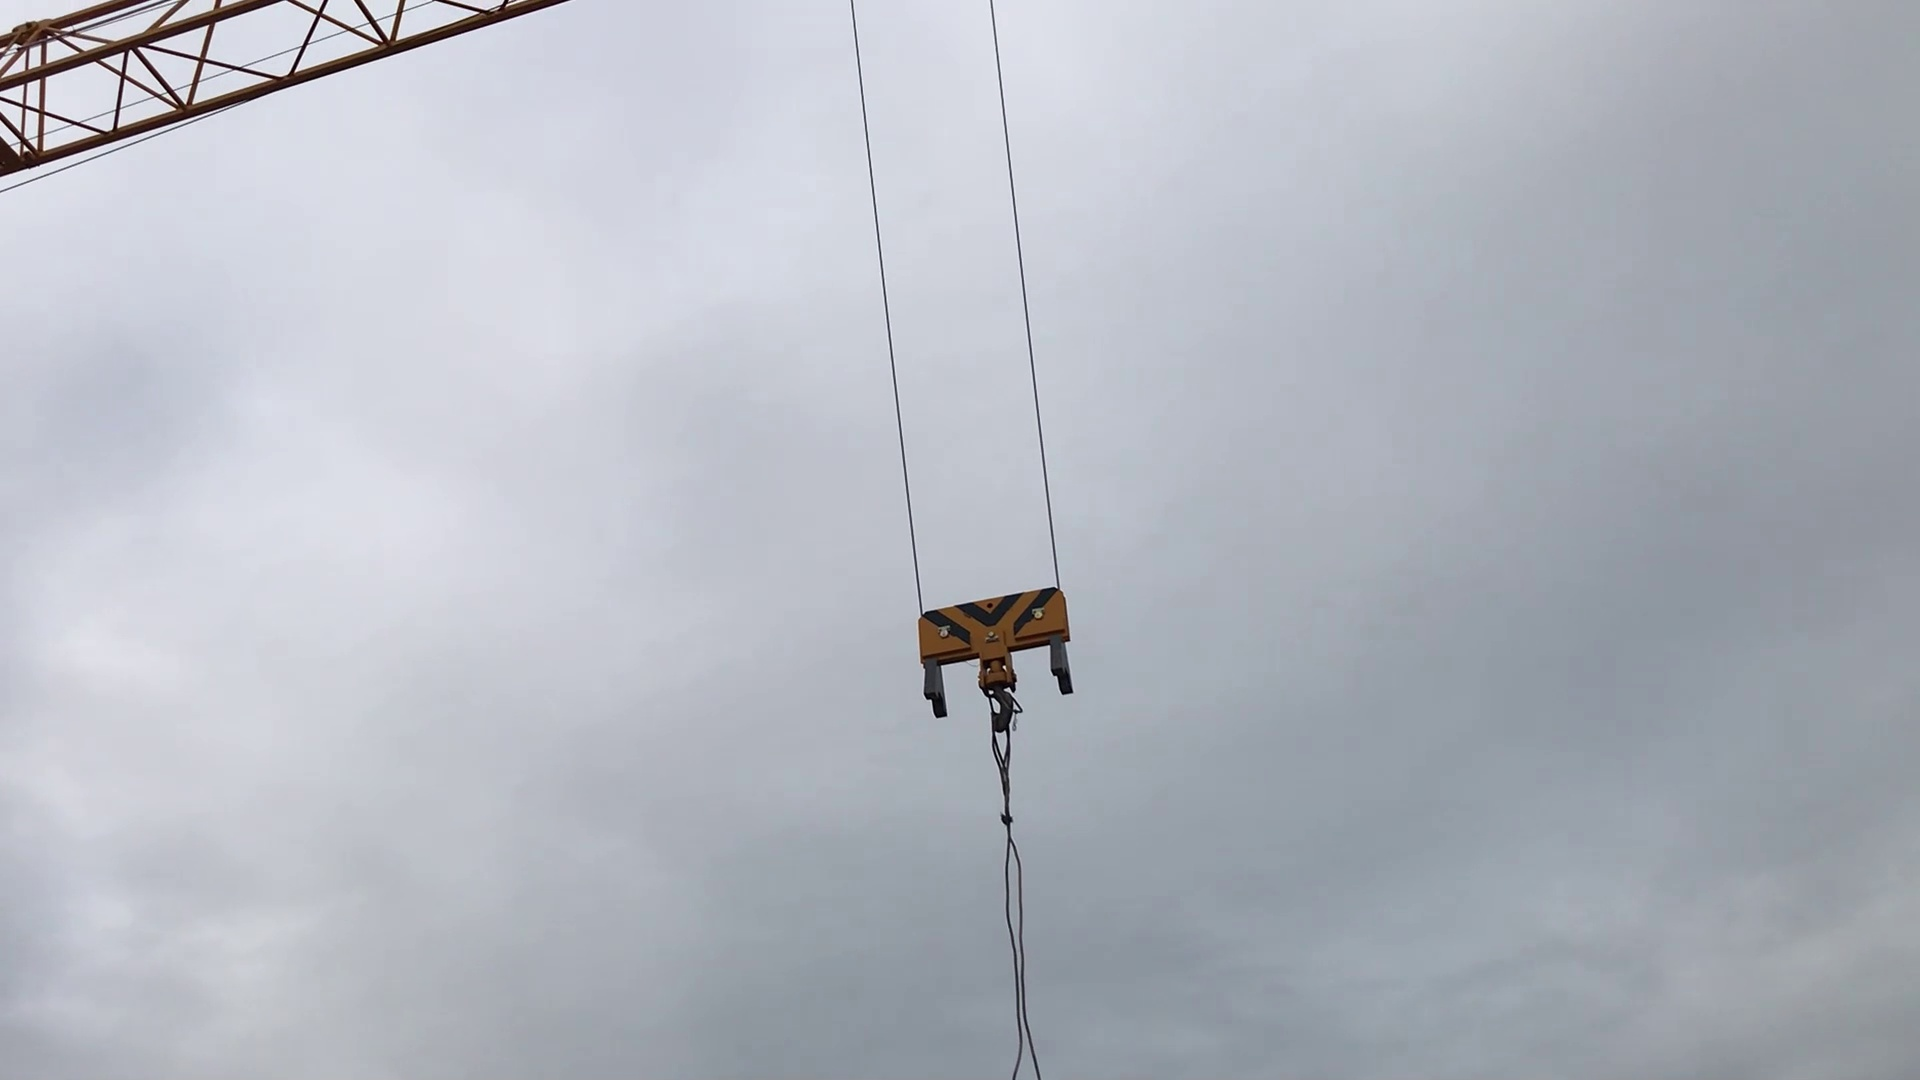hook: (893, 572, 1112, 741)
